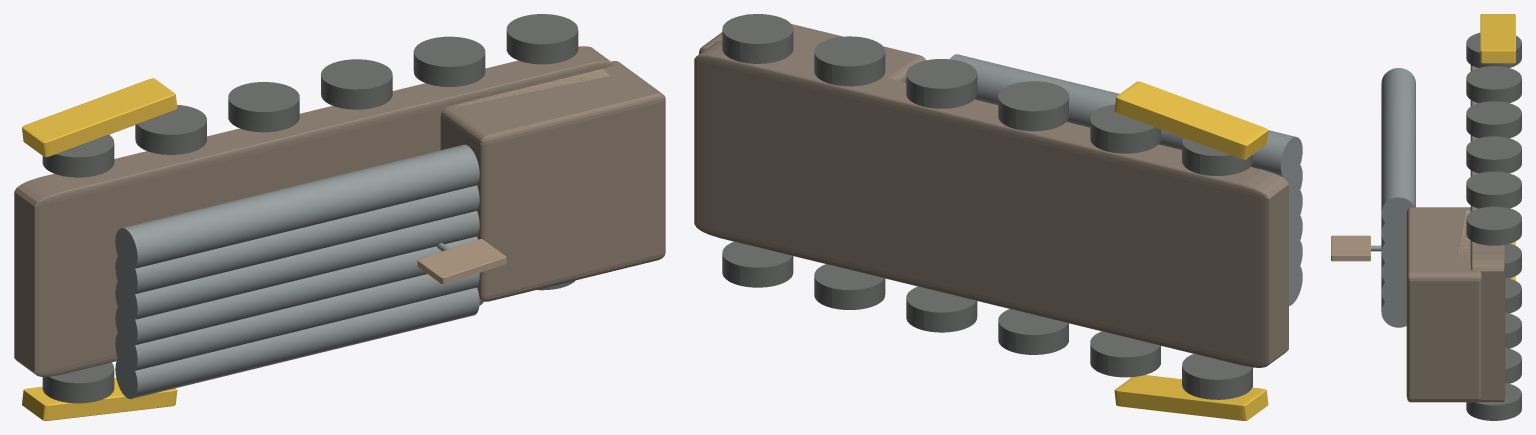
The model's file is d-x02-dominion-cruise-lod1.glb.
The picture shows the model from 3 angles, left to right: view 1: azimuth 30°, elevation 25°; view 2: azimuth 150°, elevation 25°; view 3: azimuth 270°, elevation 25°; orthographic projection. The views are drawn at different scales.
Parts seen in each view (by area): view 1: strategic_lower, strategic_cab, cruise_canister_5, cruise_canister_0, cruise_canister_4, cruise_canister_3, cruise_canister_1, cruise_canister_2, strategic_jack_1, strategic_wheel_1_4, strategic_wheel_1_5, strategic_wheel_1_3 (+7 smaller); view 2: strategic_lower, strategic_jack_1, cruise_canister_5, strategic_jack_-1, strategic_wheel_1_4, strategic_wheel_1_5, strategic_wheel_1_3, strategic_wheel_1_2, strategic_wheel_-1_5, strategic_wheel_-1_3, strategic_wheel_-1_4, strategic_wheel_-1_0 (+5 smaller); view 3: strategic_cab, cruise_canister_5, strategic_lower, strategic_wheel_1_5, strategic_wheel_1_3, strategic_wheel_1_4, strategic_wheel_1_2, strategic_wheel_1_1, strategic_jack_1, strategic_wheel_-1_5, cruise_radar_array, strategic_wheel_1_0 (+10 smaller).
Part boxes in pixels (<box>): strategic_lower: <box>14,46,613,376</box>; strategic_cab: <box>440,61,665,301</box>; cruise_canister_5: <box>115,144,479,270</box>; cruise_canister_0: <box>115,287,479,398</box>; cruise_canister_4: <box>115,185,479,296</box>; cruise_canister_3: <box>115,211,479,322</box>; cruise_canister_1: <box>115,273,479,373</box>; cruise_canister_2: <box>115,236,477,347</box>; strategic_jack_1: <box>22,78,177,157</box>; strategic_wheel_1_4: <box>413,36,485,86</box>; strategic_wheel_1_5: <box>506,14,578,64</box>; strategic_wheel_1_3: <box>321,59,392,109</box>; strategic_lower: <box>694,40,1288,367</box>; strategic_jack_1: <box>1114,81,1268,159</box>; cruise_canister_5: <box>950,54,1302,179</box>; strategic_jack_-1: <box>1114,375,1268,420</box>; strategic_wheel_1_4: <box>814,36,885,86</box>; strategic_wheel_1_5: <box>722,14,793,63</box>; strategic_wheel_1_3: <box>906,59,977,108</box>; strategic_wheel_1_2: <box>998,81,1068,131</box>; strategic_wheel_-1_5: <box>722,241,793,287</box>; strategic_wheel_-1_3: <box>906,286,977,332</box>; strategic_wheel_-1_4: <box>814,264,885,309</box>; strategic_wheel_-1_0: <box>1182,354,1252,399</box>; strategic_cab: <box>1406,207,1482,402</box>; cruise_canister_5: <box>1381,68,1415,228</box>; strategic_lower: <box>1470,65,1505,401</box>; strategic_wheel_1_5: <box>1466,206,1521,245</box>; strategic_wheel_1_3: <box>1466,136,1521,173</box>; strategic_wheel_1_4: <box>1466,171,1521,208</box>; strategic_wheel_1_2: <box>1466,101,1521,138</box>; strategic_wheel_1_1: <box>1466,66,1521,103</box>; strategic_jack_1: <box>1480,14,1515,63</box>; strategic_wheel_-1_5: <box>1466,383,1521,420</box>; cruise_radar_array: <box>1331,235,1370,261</box>; strategic_wheel_1_0: <box>1466,32,1521,67</box>.
Size of what is drawn, in the model's own units: 10.94 by 5.51 by 3.94.
